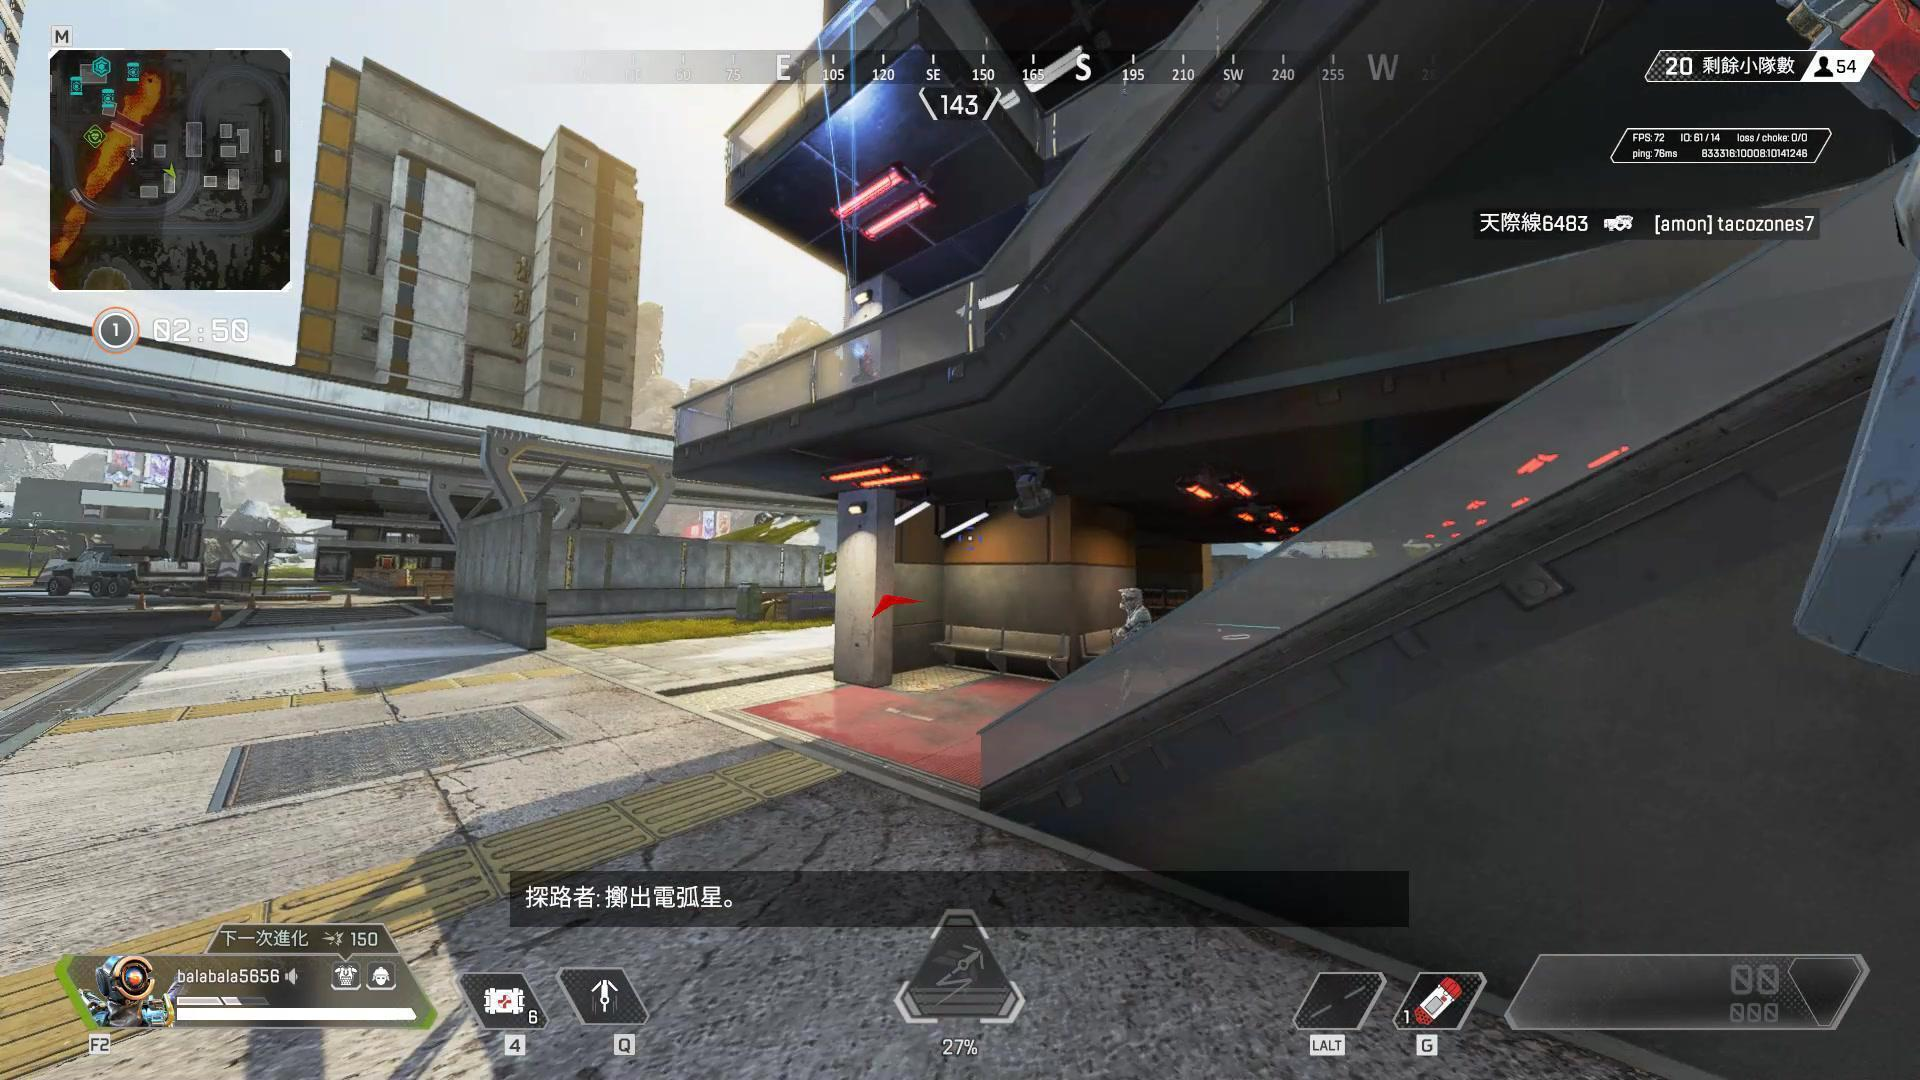avatar: (1114, 586, 1153, 640)
